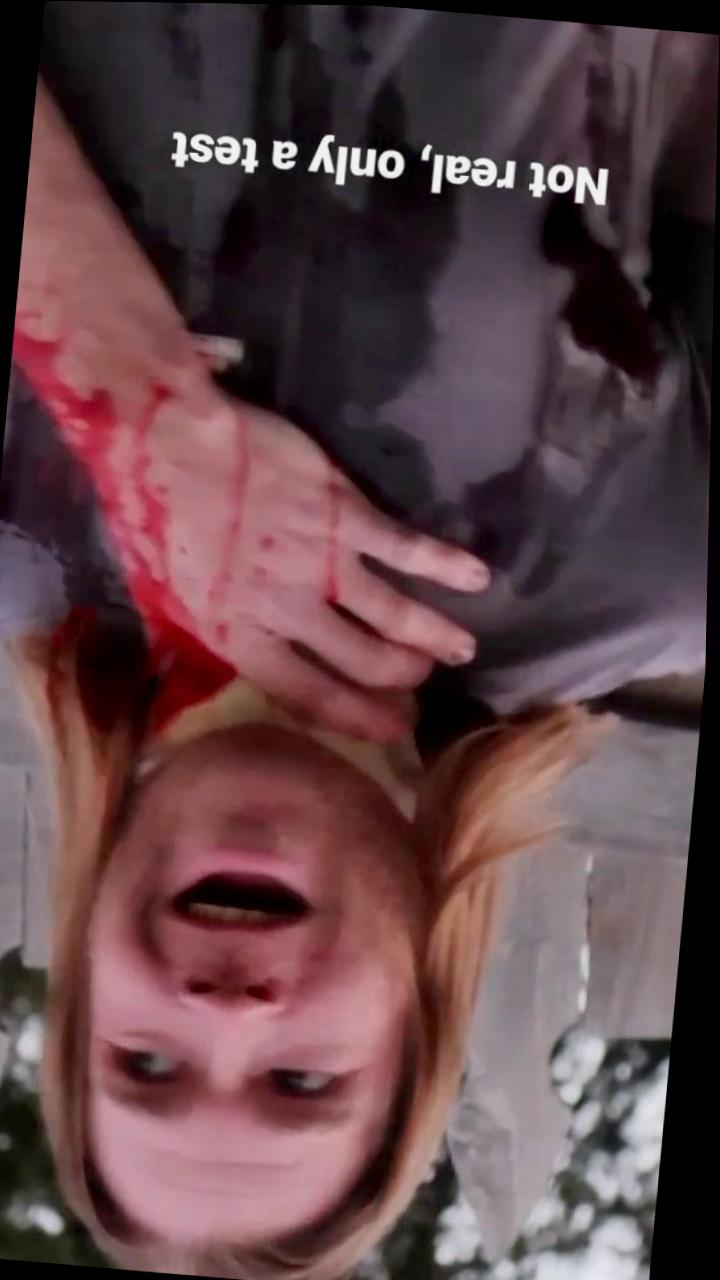Fire: (0, 324, 172, 600), (127, 566, 240, 732), (211, 395, 282, 614), (312, 441, 359, 606)
